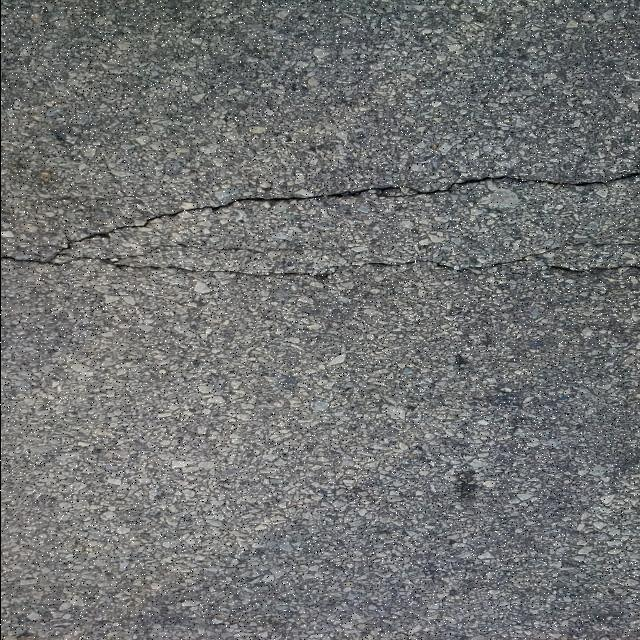Crack: (0, 170, 640, 287)
